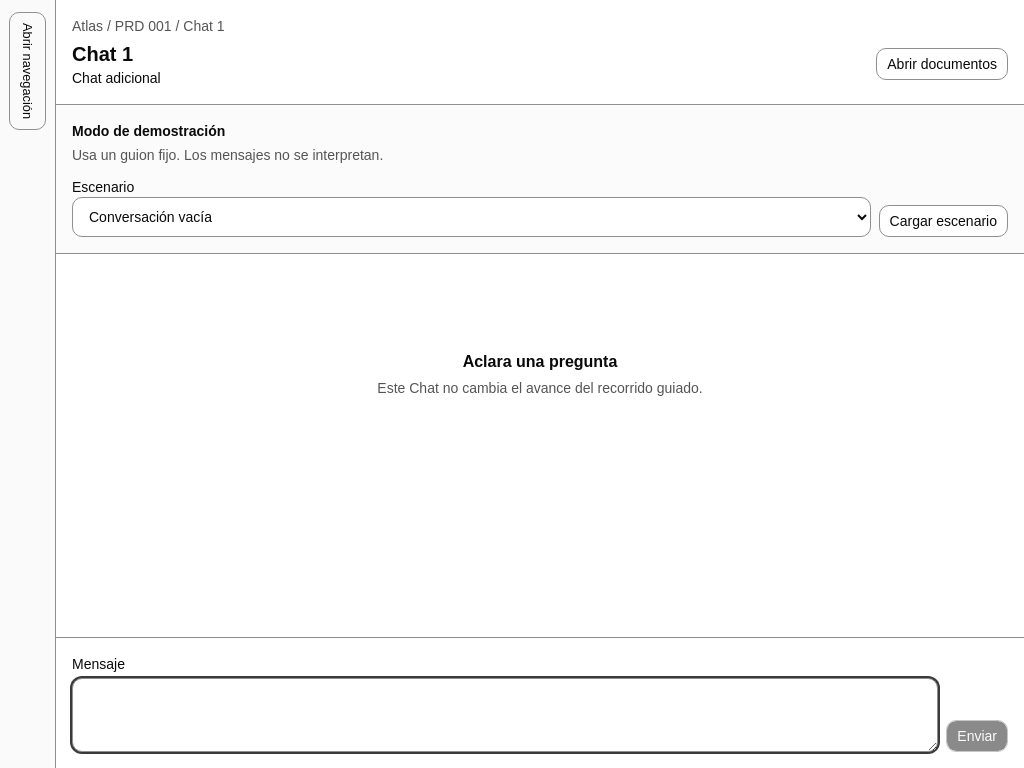
Test case: WorkspaceShell › adopta Markdown aceptado o aplicado por fixture cuando el borrador sigue limpio
Click the button "Abrir documentos": (942, 64) top-left (876, 48), bottom-right (1008, 80)
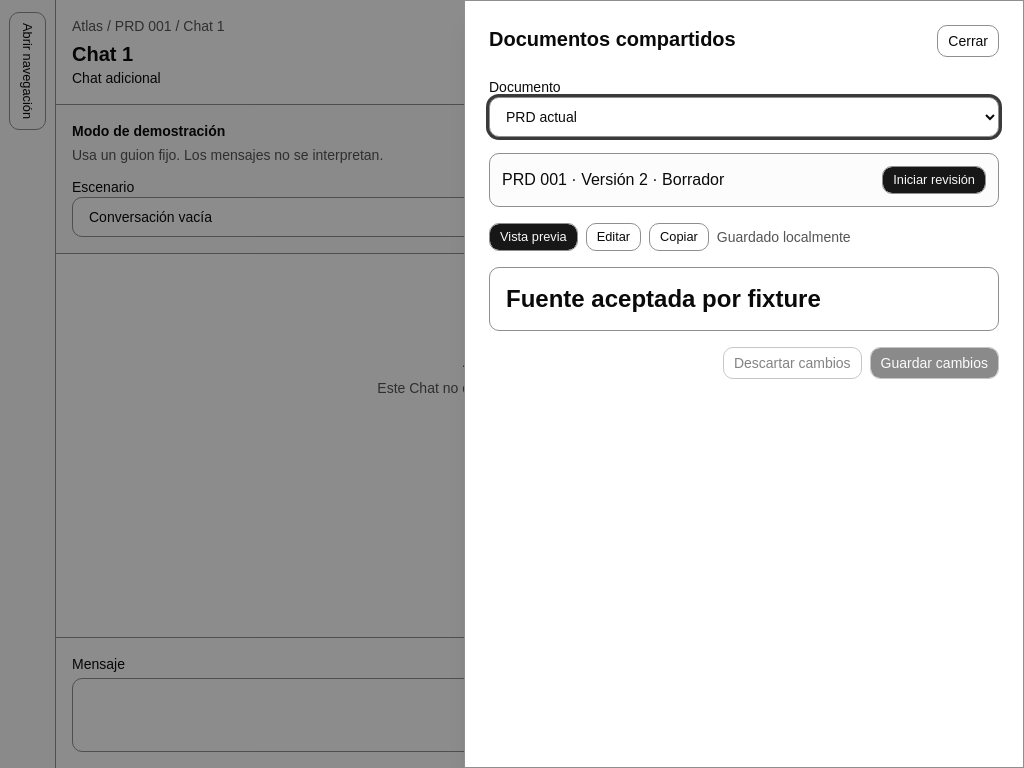
Expected: the heading "Fuente aceptada por fixture" is shown, top-left (506, 285), bottom-right (821, 312)
Expected: the text "Guardado localmente" is shown, top-left (717, 227), bottom-right (851, 247)
Expected: the button "Guardar cambios" is disabled, top-left (870, 347), bottom-right (999, 379)
